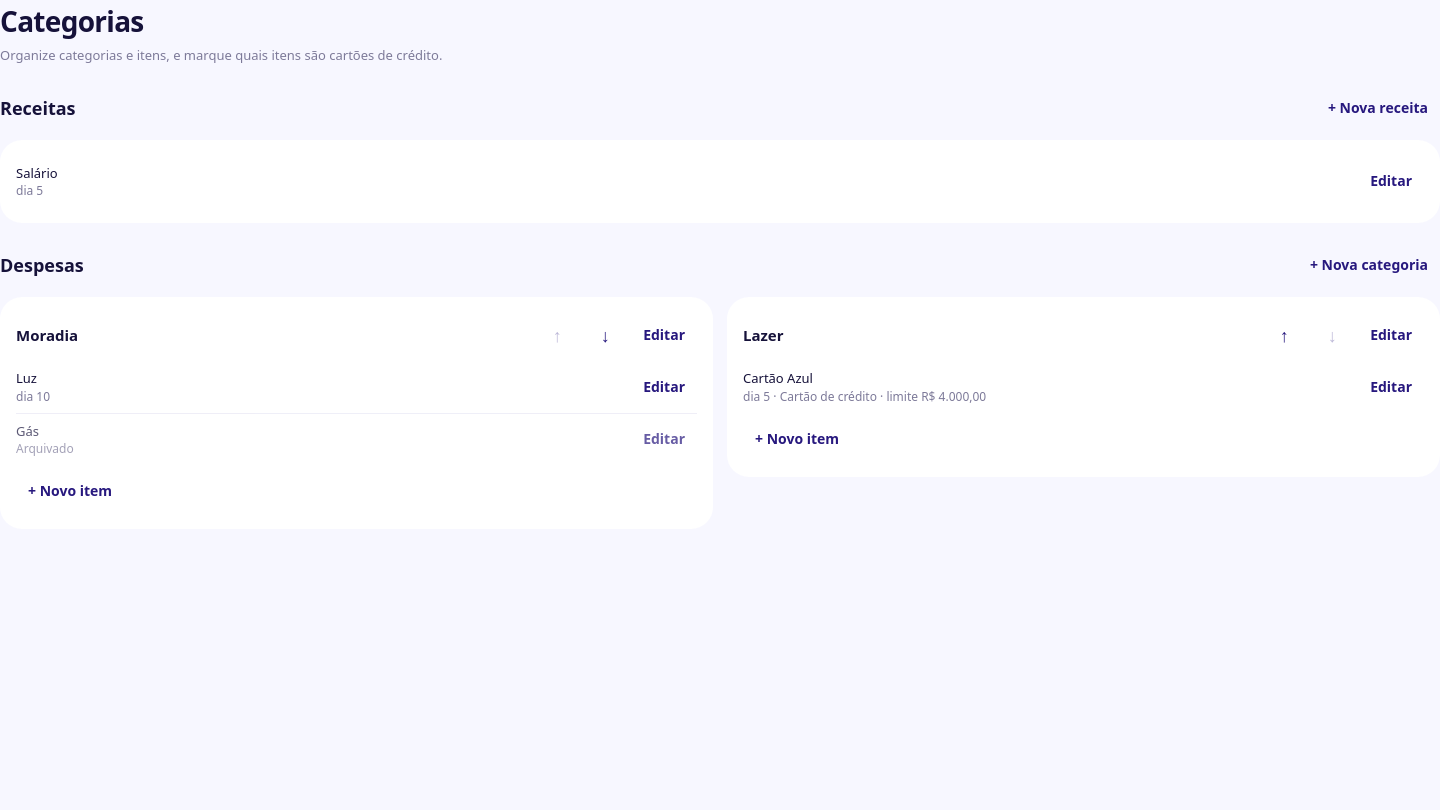
Scenario: CategoriasPage › editar_item_marca_cartao_e_salva_limite_convertido
Click the button with aria-label "Editar item Luz" at [664, 387], box [631, 365, 697, 409]
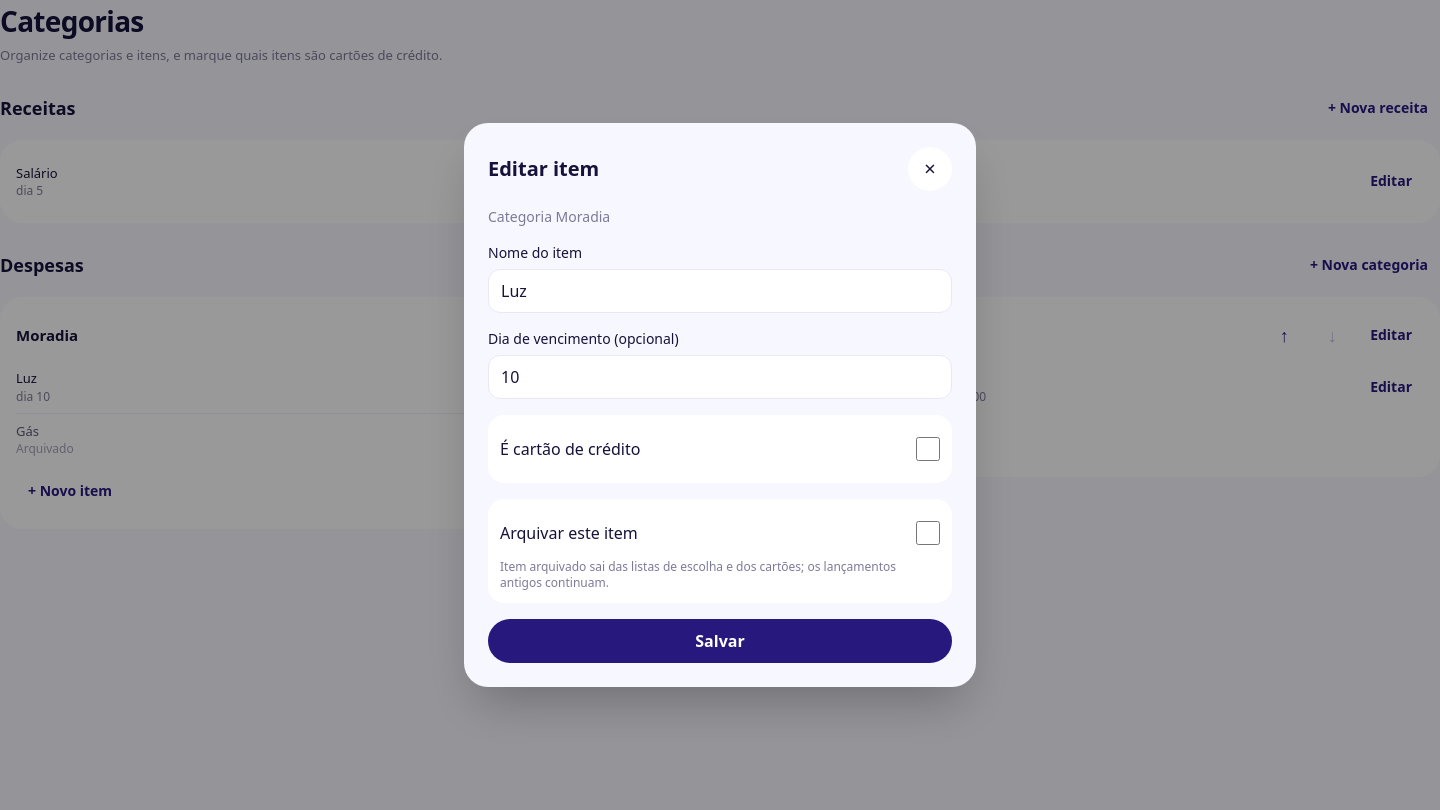
Click the checkbox labelled "É cartão de crédito" at [928, 449], box [916, 437, 940, 461]
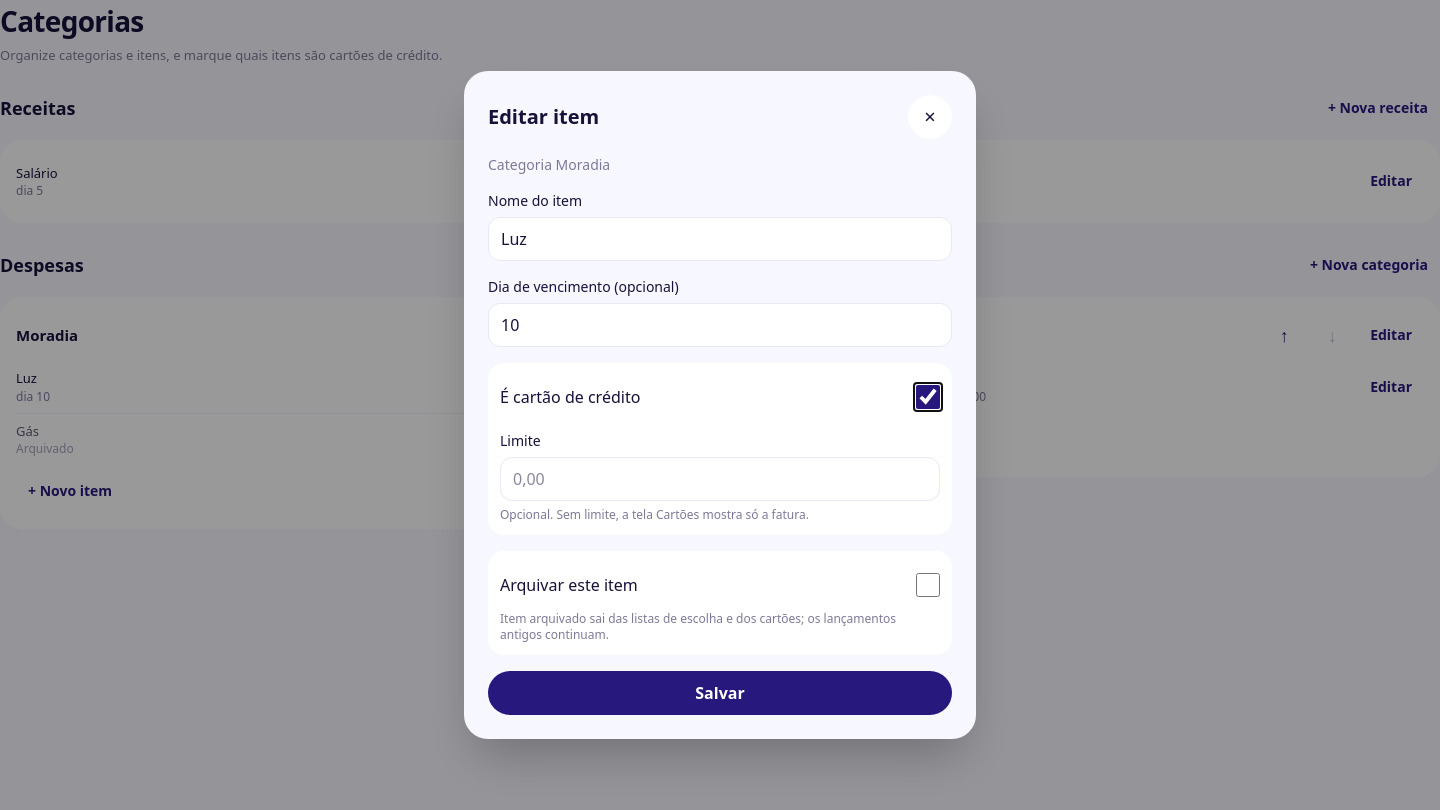
Type "4.000,00" into the field labelled "Limite" at [720, 479], box [500, 457, 940, 501]
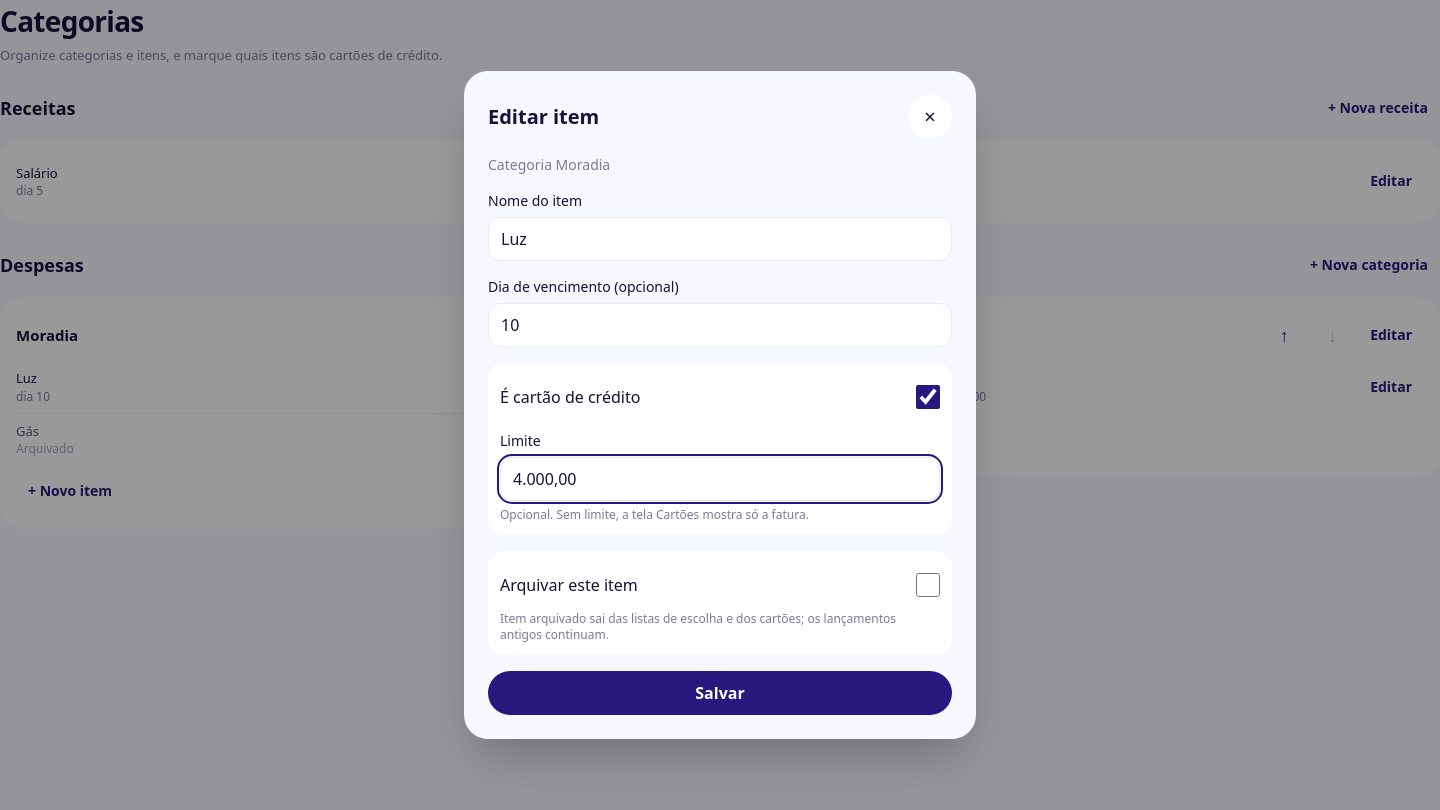
Click the button "Salvar" at [720, 693], box [488, 671, 952, 715]
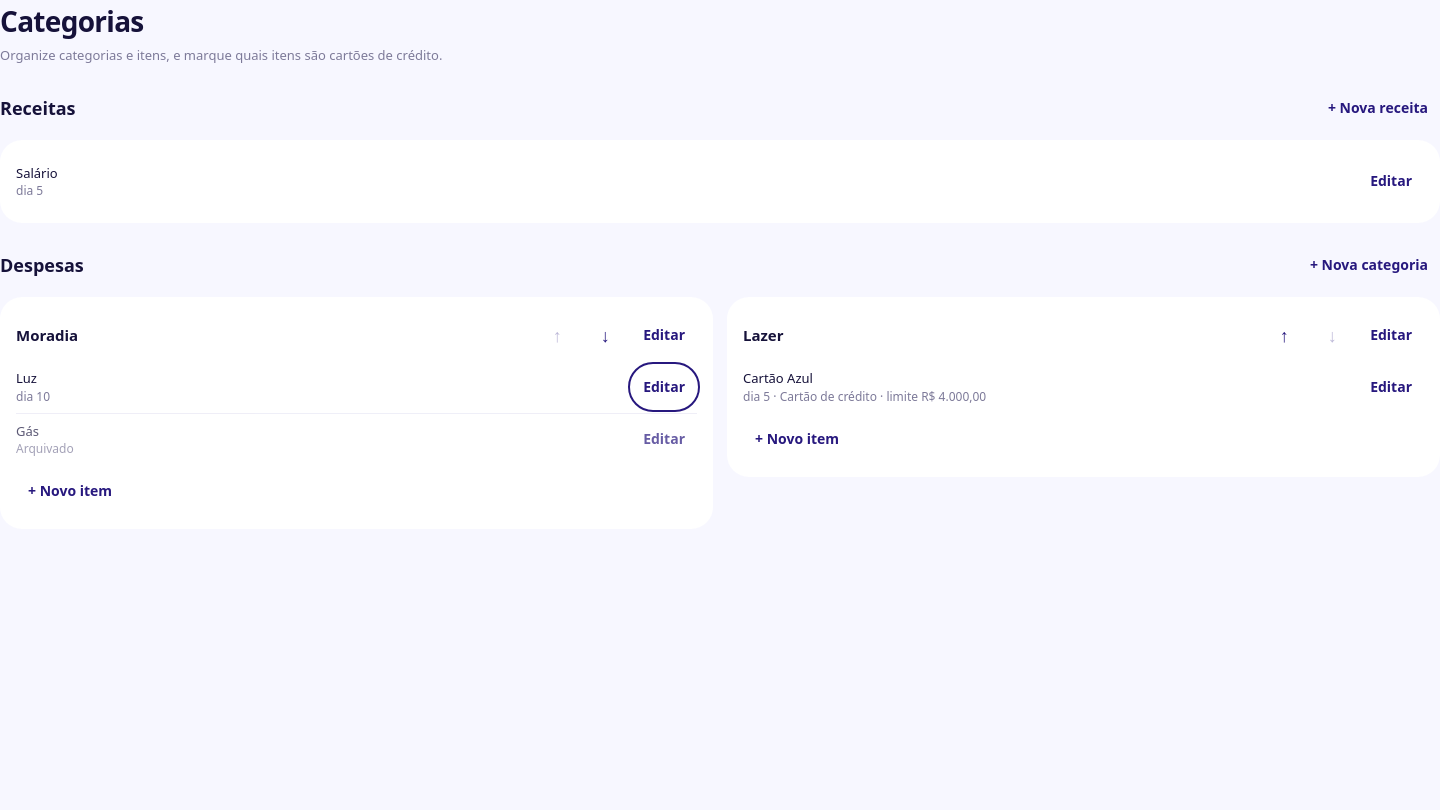
Now the dialog is gone
